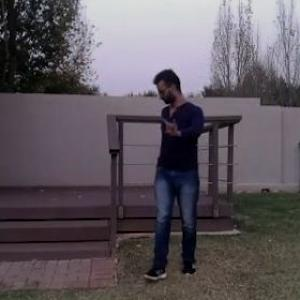takeoff-hand: (158, 110, 182, 138)
